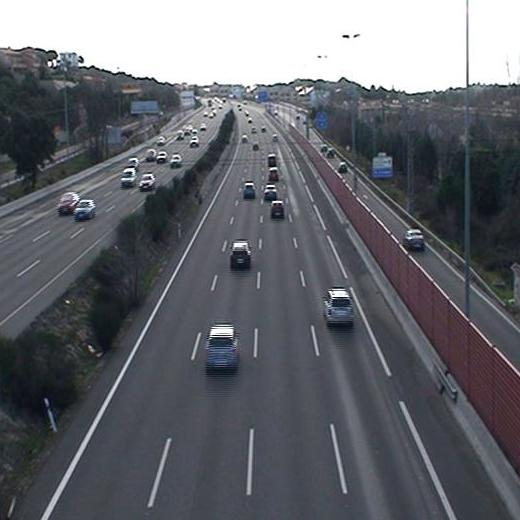car: (203, 325, 239, 371), (326, 288, 352, 325), (229, 242, 251, 268), (264, 153, 279, 171), (242, 181, 255, 199), (271, 202, 284, 219), (263, 185, 277, 200), (268, 166, 279, 183)
